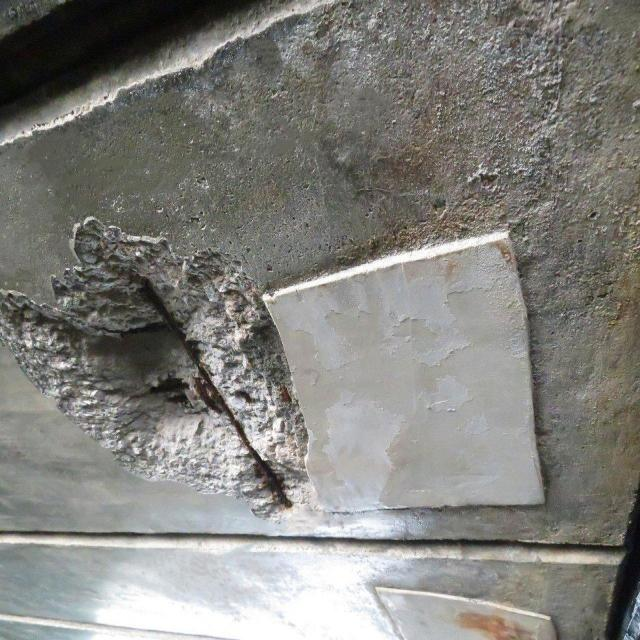Rebar: (0, 213, 320, 522)
